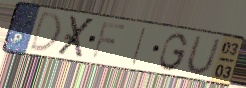D: (27, 9, 63, 53)
F: (89, 20, 128, 61)
G: (158, 31, 190, 73)
I: (129, 25, 149, 68)
U: (185, 35, 223, 78)
X: (55, 14, 98, 59)
